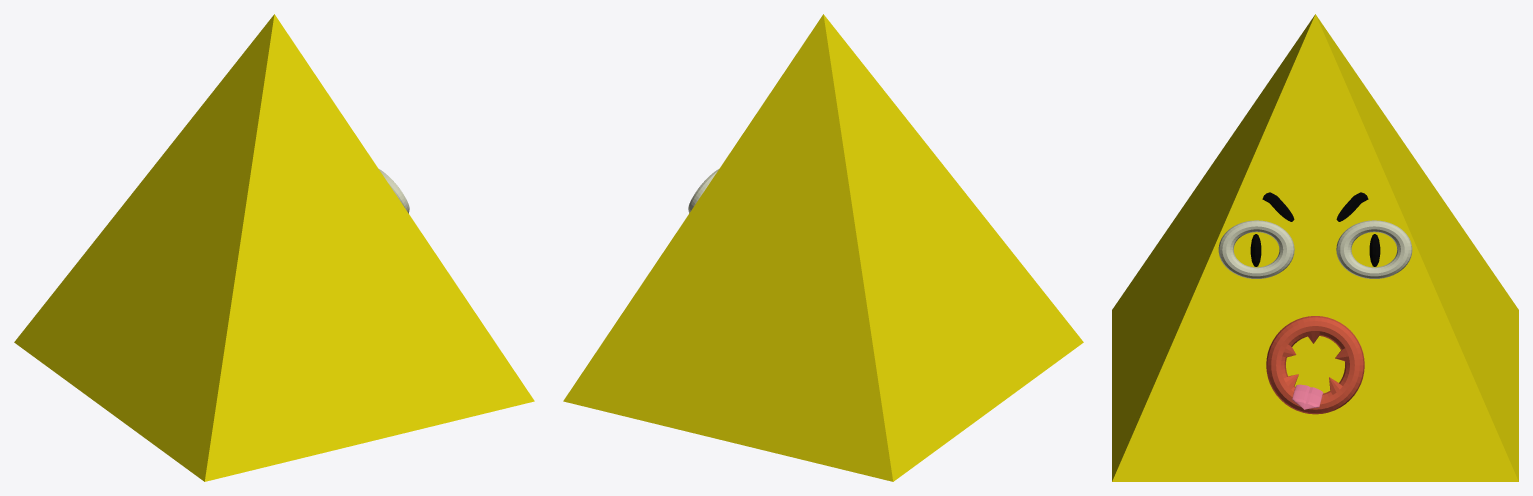
Rendered from NoMercy_Enemy_Ranged.glb.
3 views of the same model, side by side, from view 1: azimuth 30°, elevation 25°; view 2: azimuth 150°, elevation 25°; view 3: azimuth 270°, elevation 25° (orthographic). The views are drawn at different scales.
Parts seen in each view (by area): view 1: Cone; view 2: Cone; view 3: Cone, Torus, Torus.002, Cylinder.001, Sphere, Cylinder.
Boxes of the visible parts, <box> form: Cone: <box>14,14,534,481</box>; Cone: <box>563,14,1083,481</box>; Cone: <box>1112,14,1518,481</box>; Torus: <box>1266,316,1364,414</box>; Torus.002: <box>1218,220,1412,278</box>; Cylinder.001: <box>1262,192,1368,221</box>; Sphere: <box>1250,234,1380,266</box>; Cylinder: <box>1292,384,1323,409</box>.
Size of the model in its own units: 1.41 by 1.46 by 1.41.
